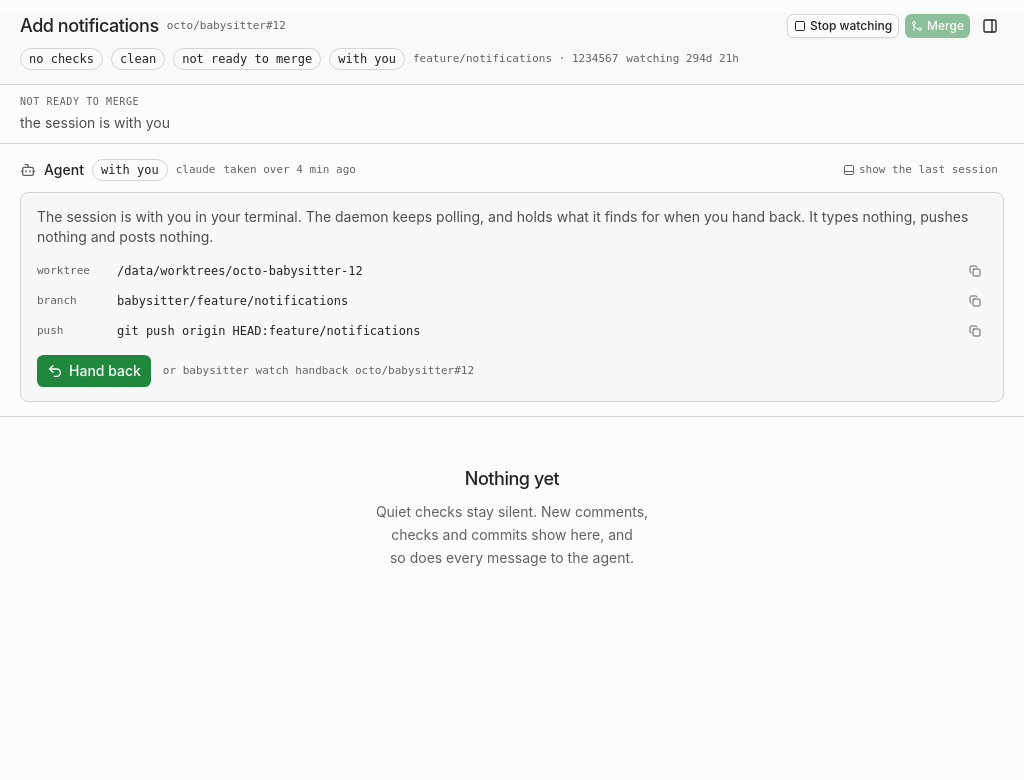
Test: says the agent of the author still runs and offers nothing else
Click the button "Hand back".
click(94, 371)  # box [37,355,151,387]
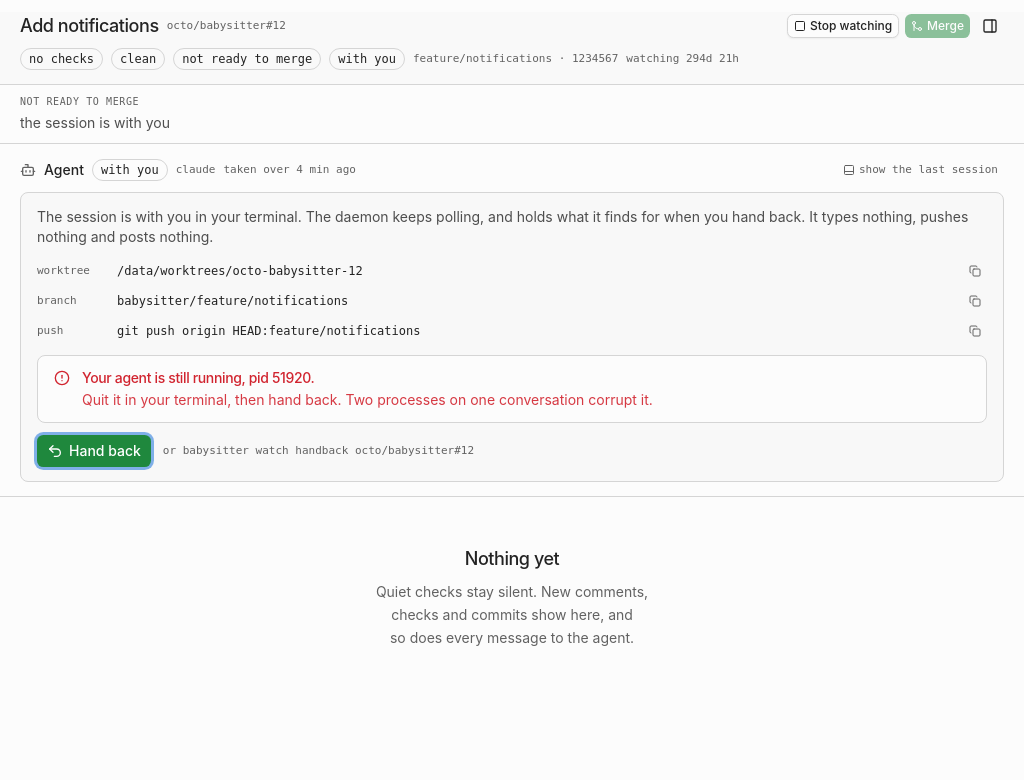
Expected: the text "Your agent is still running, pid 51920." is shown, [82,369,314,386]
Expected: the text "Quit it in your terminal, then hand back" is shown, [82,391,653,408]
